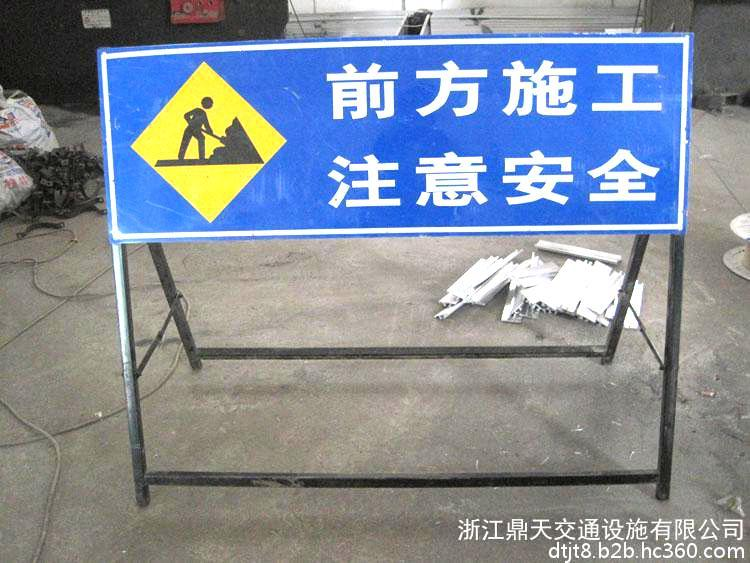sign: (96, 49, 689, 232)
